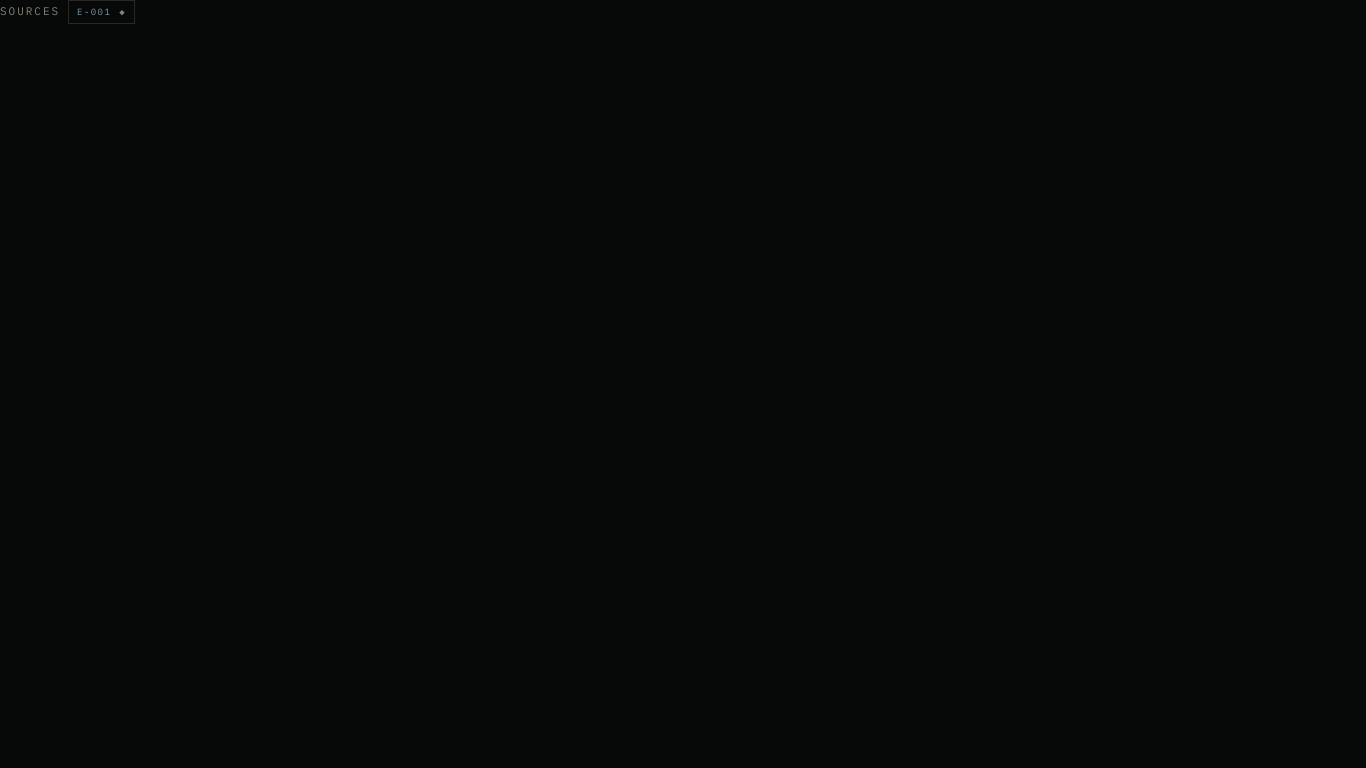
Scenario: EvidenceInspector › opens a labelled dialog with the source detail
Click the button "E-001 ◆": (102,12) [68,0,135,24]
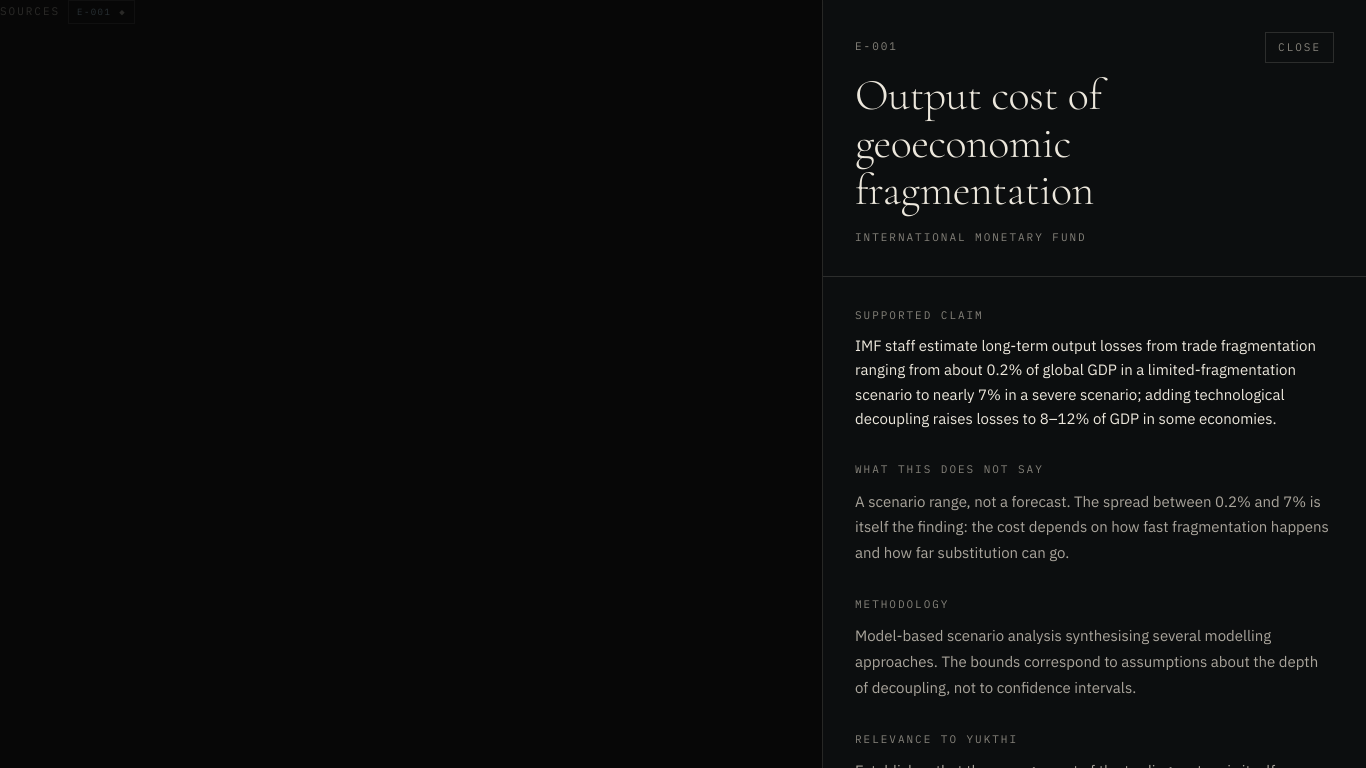
expect the dialog is shown: met, box [822,0,1365,767]
expect the text "Supported claim" is shown: met, box [855,308,984,322]
expect the text "What this does not say" is shown: met, box [855,462,1044,476]
